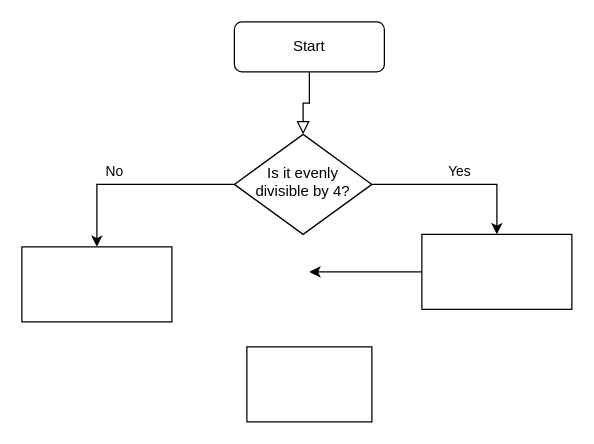
Some shapes in this 594 by 444 pixel diagram are drawn without their labels. Here are the shapes that lost their labels. From the top down, the centre of each, then its label:
At point 96,284: "Not a leap year".
At point 496,271: "Is it cleanly divisible by 100".
